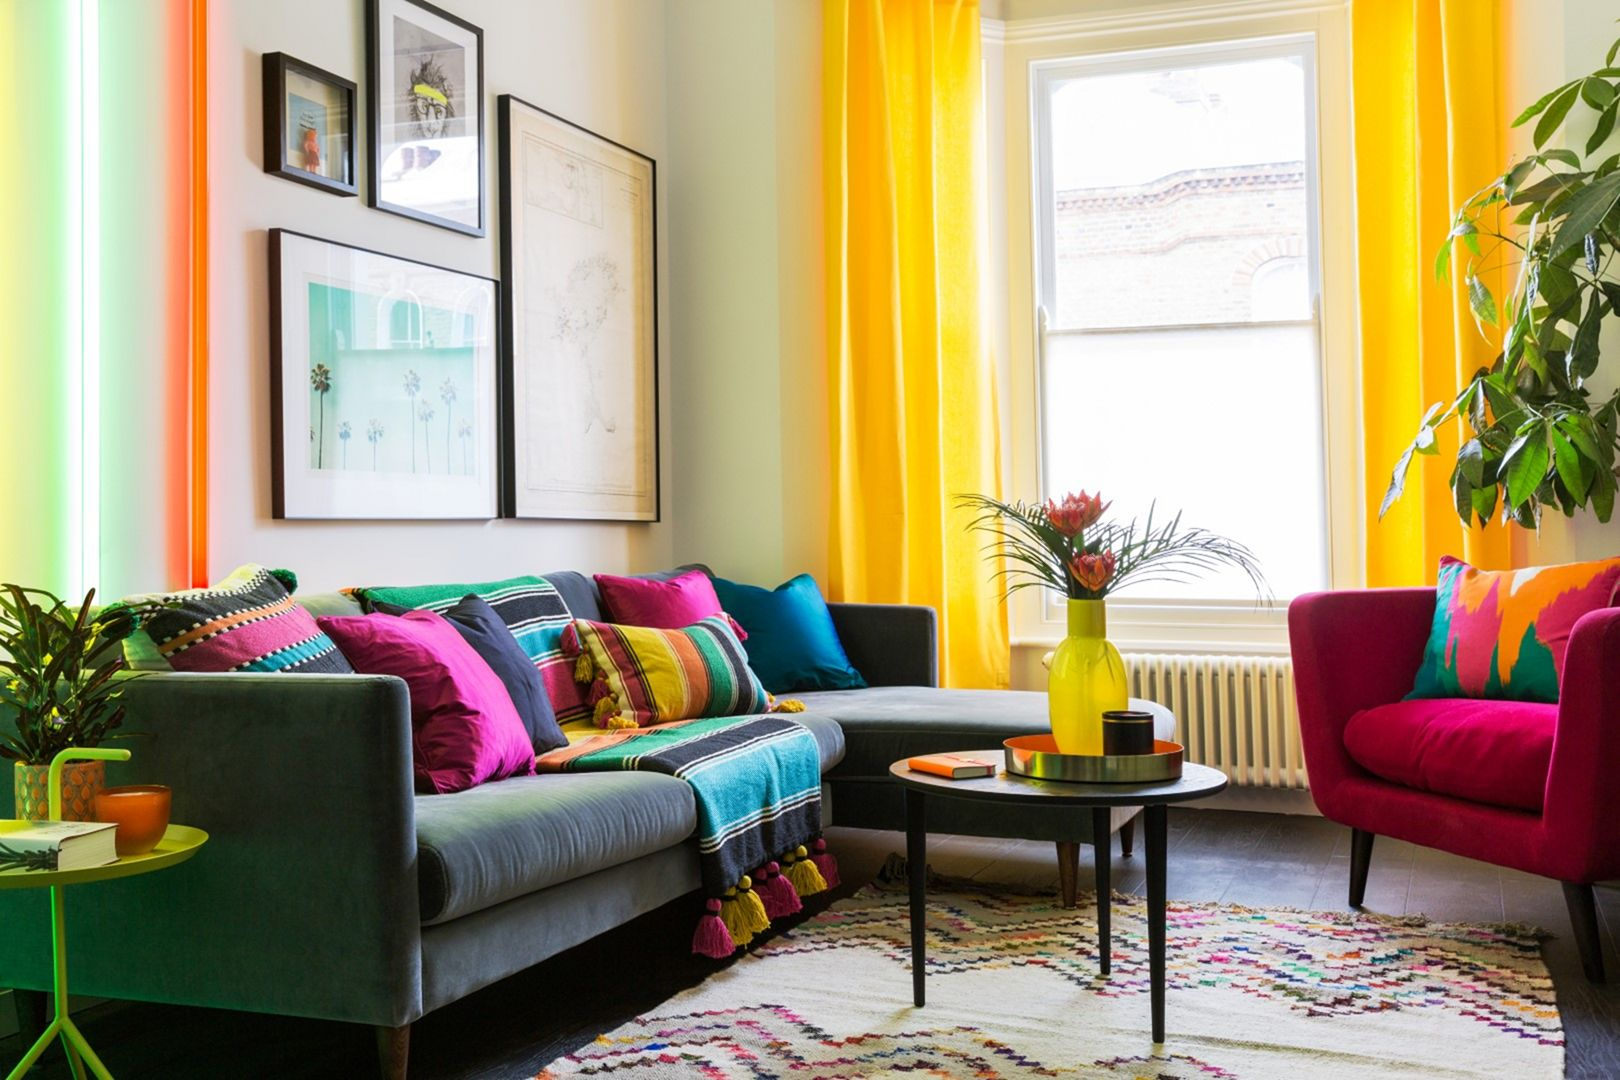biru: (720, 579, 857, 685)
hijau: (1, 830, 207, 1080)
hitam: (890, 759, 1229, 1040), (1103, 711, 1156, 755)
kuning: (1052, 599, 1126, 758)
merah: (1289, 574, 1620, 896)
ungu: (341, 612, 530, 776)
